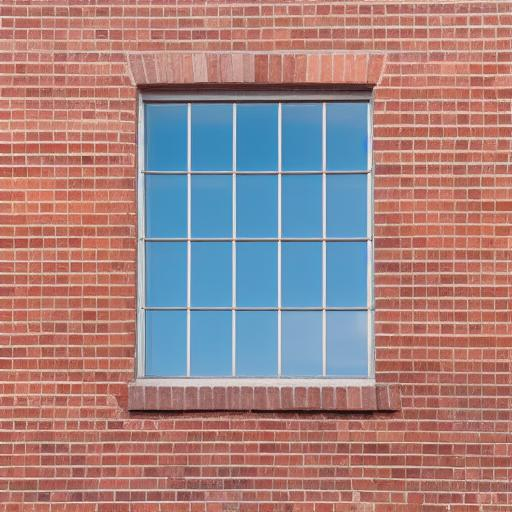Window: (125, 51, 406, 414)
